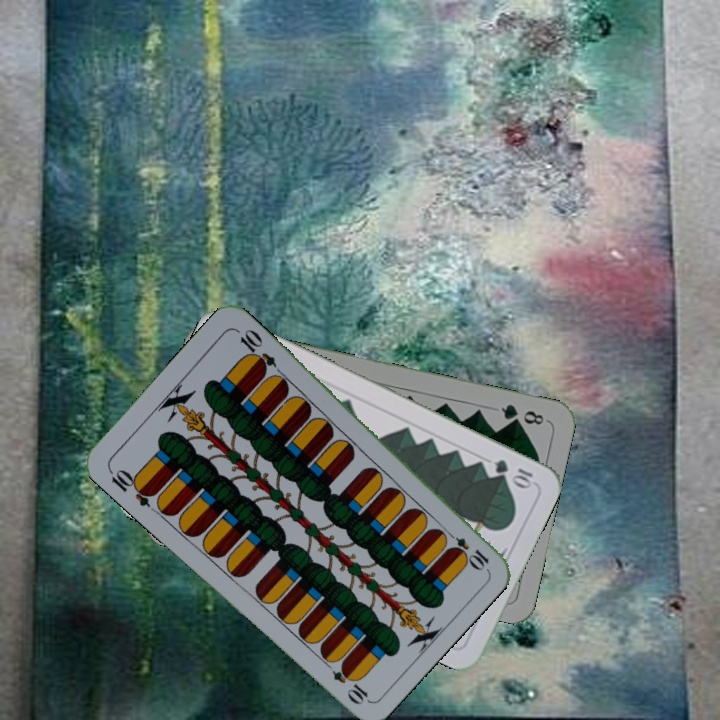E10: (104, 464, 158, 510), (440, 526, 492, 572)
G10: (489, 455, 537, 490)
G8: (496, 400, 547, 428)
